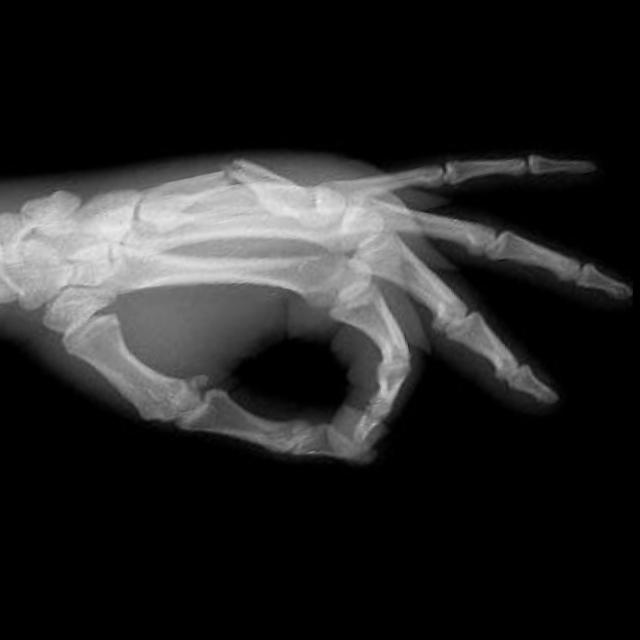fracture: (213, 144, 258, 202)
